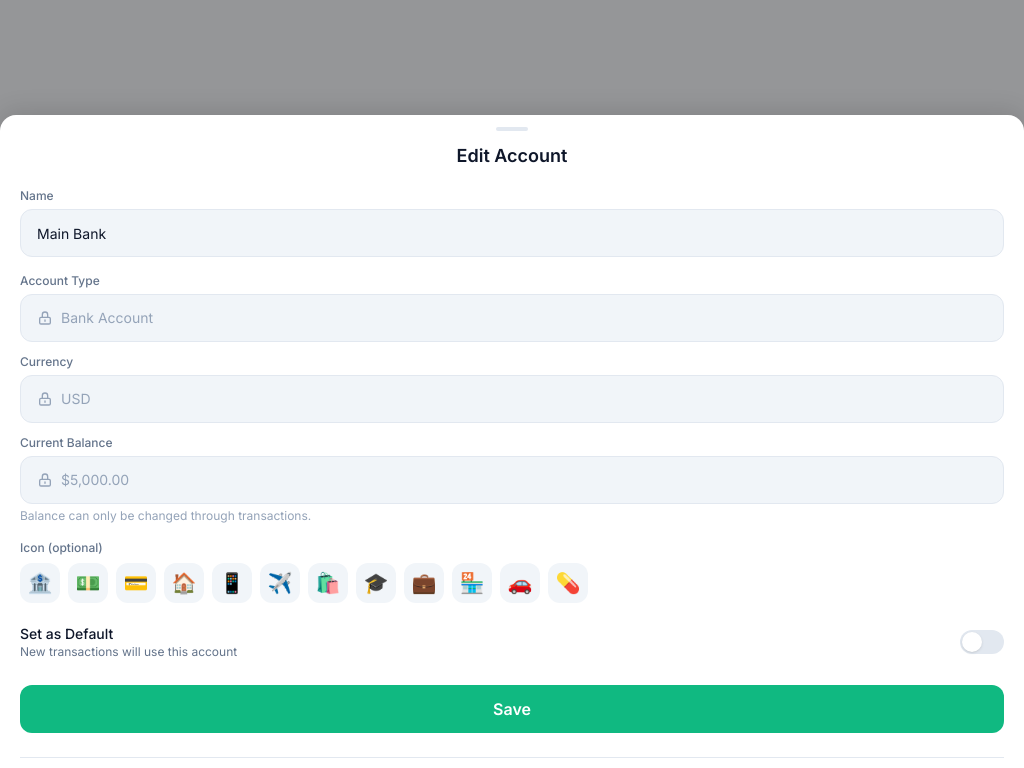
Scenario: EditAccountSheet › shows name validation error when saving with empty name
The image size is (1024, 768).
Clear the field with id "edit-account-name": [512, 233] box [20,209,1004,257]
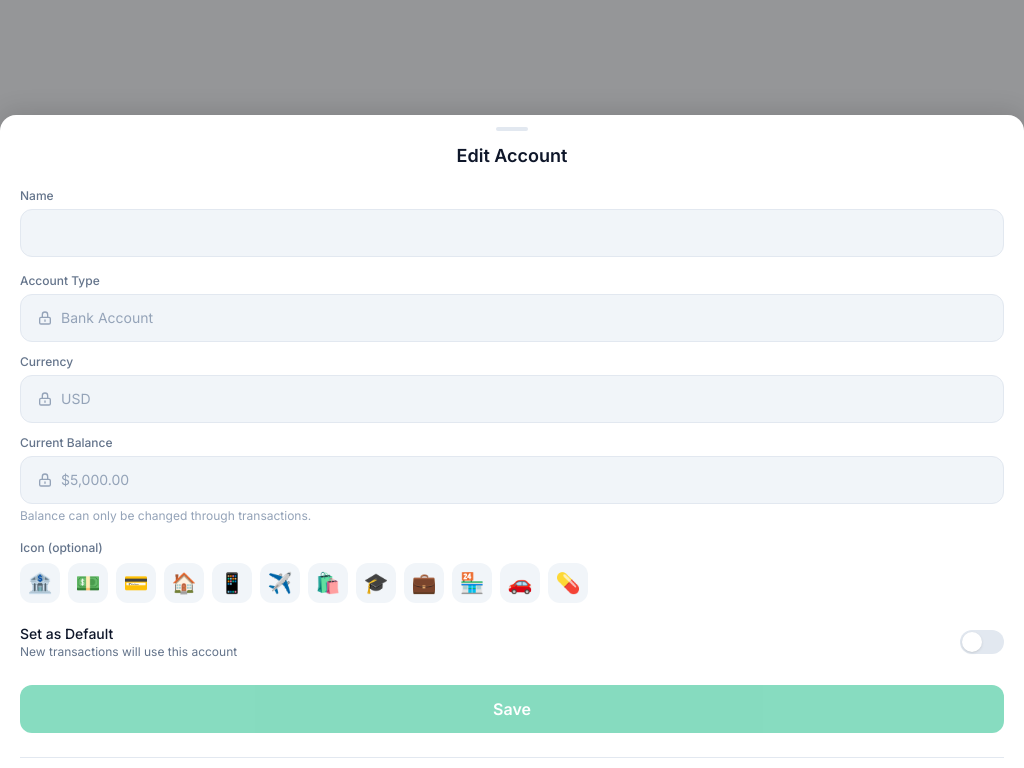
Leave the field with id "edit-account-name", box [20,209,1004,257]
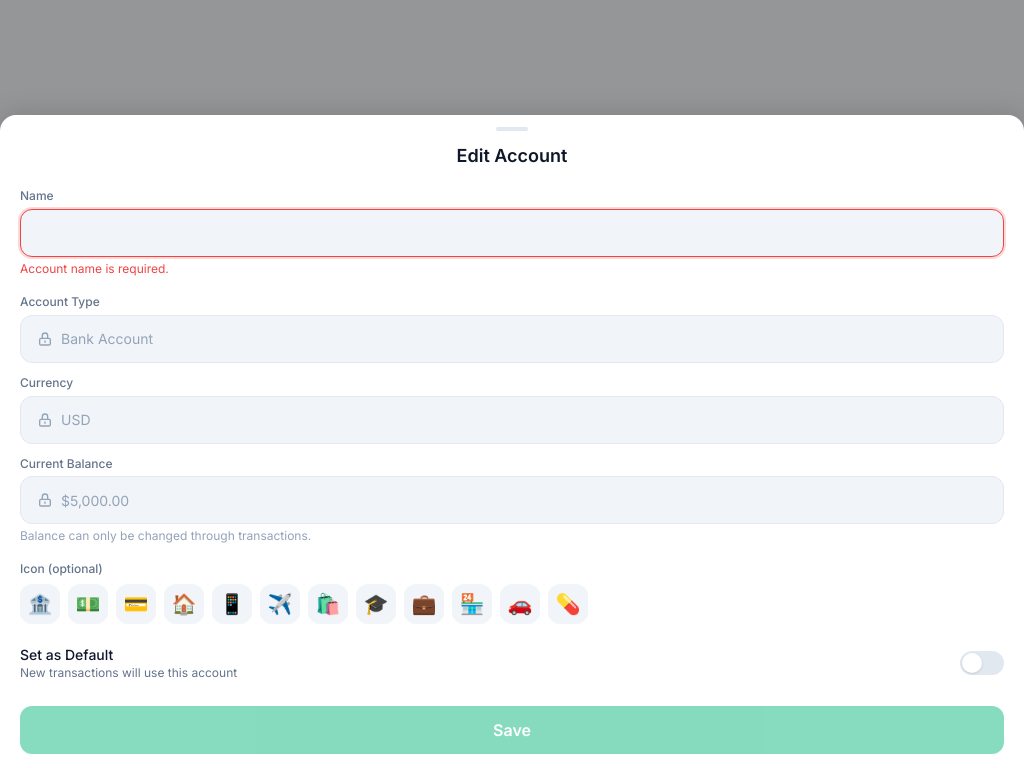
Now the text "Account name is required." is shown, box [20,261,169,276]
